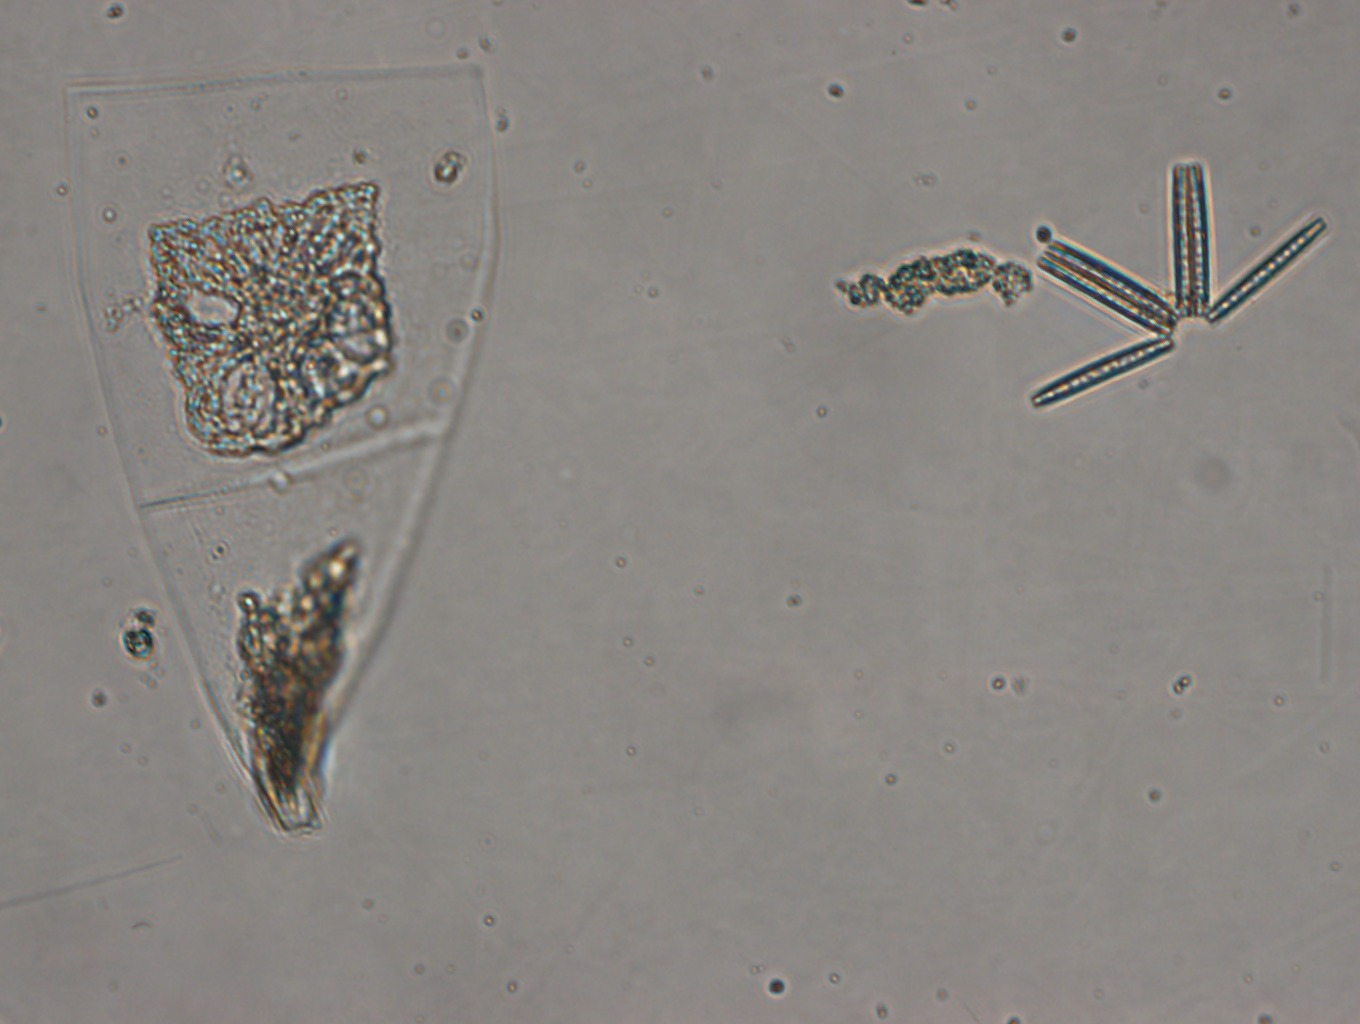helicotheca: (60, 63, 503, 842)
thalassionema nitzschioides: (1025, 157, 1330, 411)
